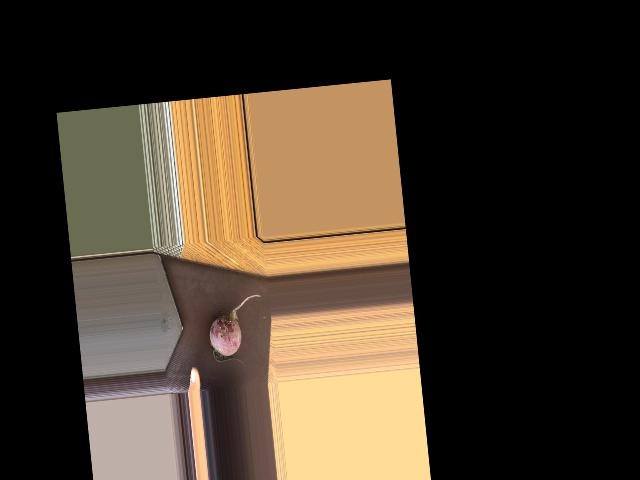beet: (205, 293, 267, 367)
